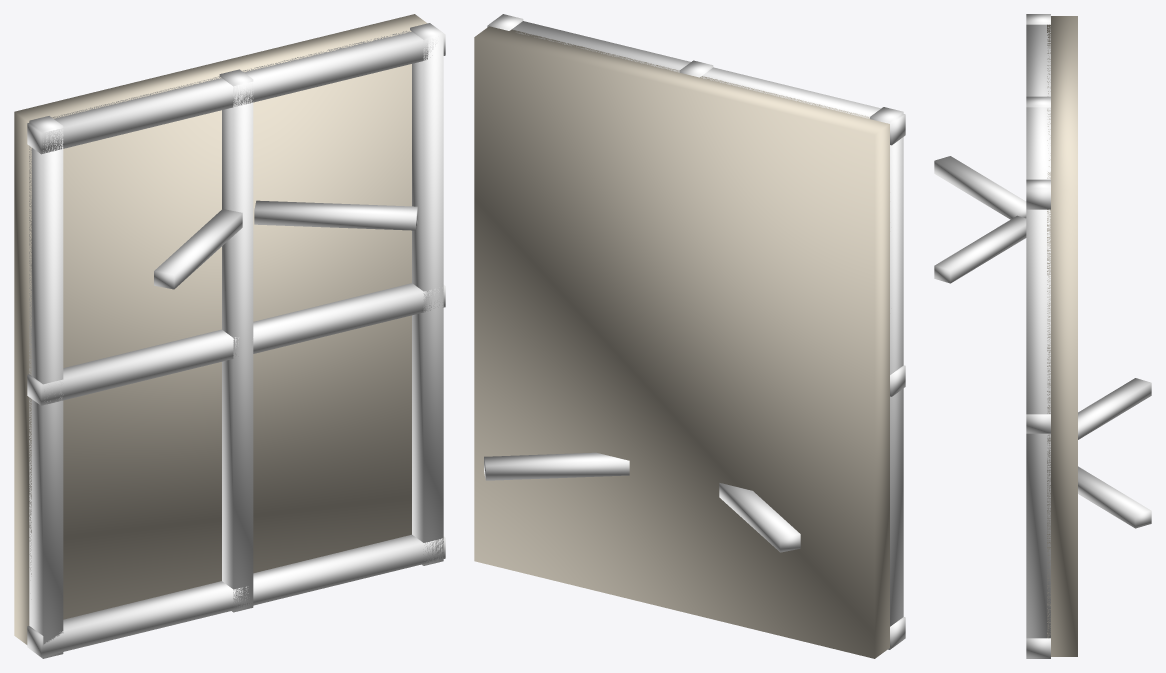
Rendered from half_timber_wall.glb.
3 renders of one model, left to right at view 1: azimuth 30°, elevation 25°; view 2: azimuth 150°, elevation 25°; view 3: azimuth 270°, elevation 25°, orthographic. The views are drawn at different scales.
Parts seen in each view (by area): view 1: half_timber_wall; view 2: half_timber_wall; view 3: half_timber_wall.
Part boxes in pixels (box(x1,y1,x2,y2)): half_timber_wall: box(14, 14, 445, 658); half_timber_wall: box(474, 14, 905, 658); half_timber_wall: box(934, 14, 1151, 658).
Bounding box in the file's own units: 2.02 × 2.52 × 1.05.
